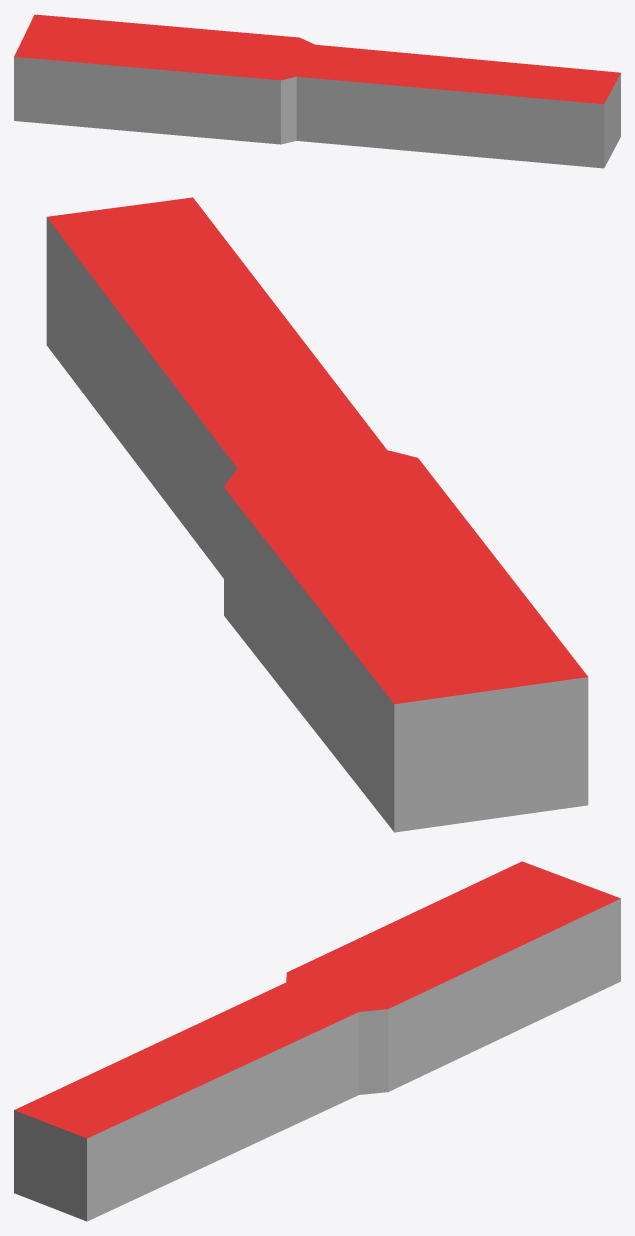
File: DEBY_LOD2_4777276.dae
The picture shows the model from 3 angles, top to bottom: view 1: azimuth 30°, elevation 25°; view 2: azimuth 150°, elevation 25°; view 3: azimuth 270°, elevation 25°; orthographic projection. The views are drawn at different scales.
Bounding box in the file's own units: 45.81 × 42.39 × 6.4.
